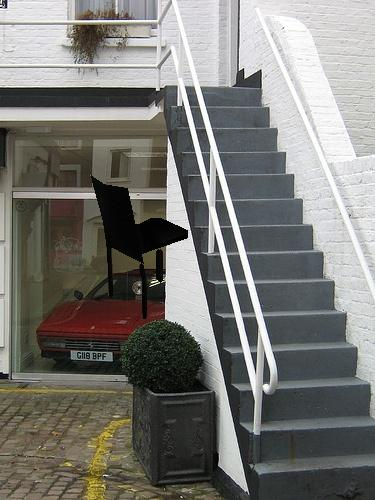tampered: (91, 176, 188, 319)
